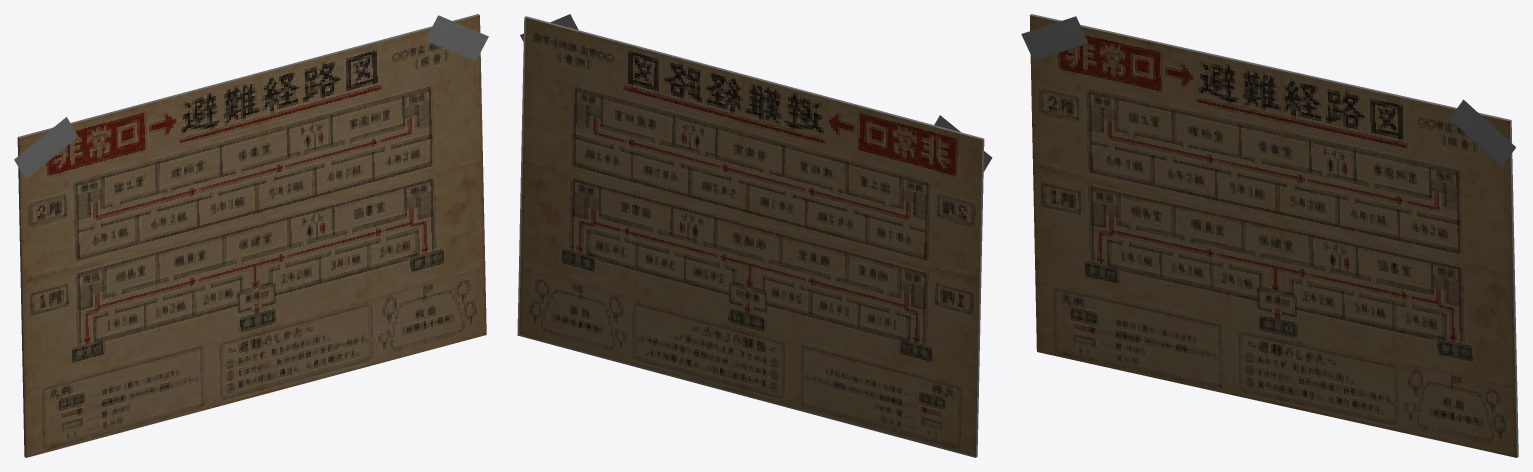
The model's file is prop_poster-hinan-2.glb.
3 views of the same model, side by side, from view 1: azimuth 30°, elevation 25°; view 2: azimuth 150°, elevation 25°; view 3: azimuth 330°, elevation 25° (orthographic). The views are drawn at different scales.
Parts seen in each view (by area): view 1: prop_poster-hinan-2; view 2: prop_poster-hinan-2; view 3: prop_poster-hinan-2.
Boxes of the visible parts, x1,y1,x2,y2 form: prop_poster-hinan-2: [14, 14, 488, 457]; prop_poster-hinan-2: [517, 14, 992, 457]; prop_poster-hinan-2: [1021, 14, 1518, 457].
Size of the model in its own units: 0.4751 by 0.3284 by 0.0055.
2 materials, 2 textured.
